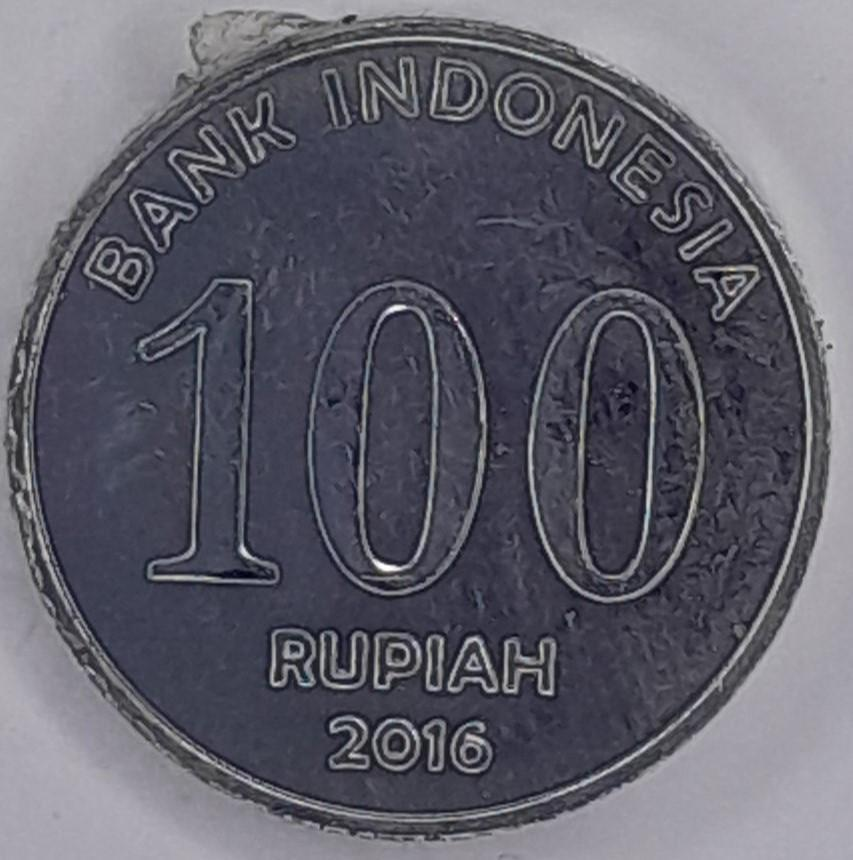coin_100_e2016: (0, 4, 837, 843)
